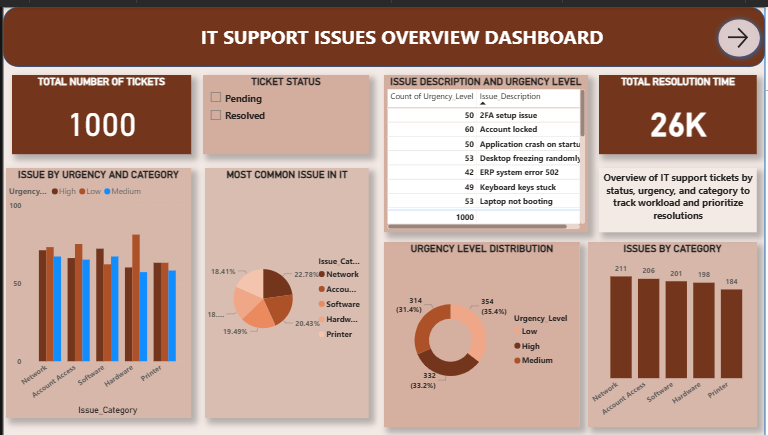

What the dashboard file says about the page in this screenshot:
{"tool":"powerbi","page":{"name":"ISSUES","canvas":[1280,720],"ordinal":0},"visuals":[{"type":"shape","box":[0,0,1280.2,720],"z":0},{"type":"shape","box":[0,0,1280.2,100.8],"z":1},{"type":"textbox","box":[77.8,21.6,1150.6,122.4],"z":2},{"type":"actionButton","box":[1192.3,11.5,87.8,80.6],"z":3},{"type":"card","title":"TOTAL NUMBER OF TICKETS","fields":{"Values":["CountNonNull(IT Support.Ticket_ID)"]},"box":[15.1,114.2,300.7,132.7],"z":4},{"type":"clusteredColumnChart","title":"ISSUE BY URGENCY AND CATEGORY","fields":{"Category":["IT Support.Issue_Category"],"Series":["IT Support.Urgency_Level"],"Y":["CountNonNull(IT Support.Ticket_ID)"]},"box":[5,270.4,310.8,419.9],"z":5},{"type":"card","title":"TOTAL RESOLUTION TIME","fields":{"Values":["Sum(IT Support.Resolution_Time_Hours)"]},"box":[1001.2,114.2,265.4,132.7],"z":6},{"type":"pieChart","title":"MOST COMMON ISSUE IN IT","fields":{"Category":["IT Support.Issue_Category"],"Y":["Sum(IT Support.Resolution_Time_Hours)"]},"box":[339.3,270.4,275.5,419.9],"z":7},{"type":"donutChart","title":"URGENCY LEVEL DISTRIBUTION","fields":{"Y":["CountNonNull(IT Support.Ticket_ID)"],"Category":["IT Support.Urgency_Level"]},"box":[640,394.8,329.2,310.8],"z":8},{"type":"columnChart","title":"ISSUES BY CATEGORY","fields":{"Category":["IT Support.Issue_Category"],"Y":["CountNonNull(IT Support.Ticket_ID)"]},"box":[982.7,394.8,283.9,310.8],"z":9},{"type":"slicer","title":"TICKET STATUS","fields":{"Values":["IT Support.Status"]},"box":[336,114.2,278.8,132.7],"z":10},{"type":"tableEx","title":"ISSUE DESCRIPTION  AND URGENCY LEVEL","fields":{"Values":["IT Support.Urgency_Level","IT Support.Issue_Description"]},"box":[640,114.2,342.7,263.7],"z":11},{"type":"textbox","box":[1001.2,270.4,265.4,107.5],"z":12}]}

Visuals, with their boxes in screenshot pixels (x1, y1, x2, y2), scaled from the page's 1280x720 canvas onto the 768x435 screenshot:
shape: left=0, top=0, right=767, bottom=434
shape: left=0, top=0, right=767, bottom=61
textbox: left=47, top=13, right=737, bottom=87
actionButton: left=715, top=7, right=767, bottom=56
"TOTAL NUMBER OF TICKETS" card: left=9, top=69, right=189, bottom=149
"ISSUE BY URGENCY AND CATEGORY" clusteredColumnChart: left=3, top=163, right=189, bottom=417
"TOTAL RESOLUTION TIME" card: left=601, top=69, right=760, bottom=149
"MOST COMMON ISSUE IN IT" pieChart: left=204, top=163, right=369, bottom=417
"URGENCY LEVEL DISTRIBUTION" donutChart: left=384, top=239, right=582, bottom=426
"ISSUES BY CATEGORY" columnChart: left=590, top=239, right=760, bottom=426
"TICKET STATUS" slicer: left=202, top=69, right=369, bottom=149
"ISSUE DESCRIPTION  AND URGENCY LEVEL" tableEx: left=384, top=69, right=590, bottom=228
textbox: left=601, top=163, right=760, bottom=228
